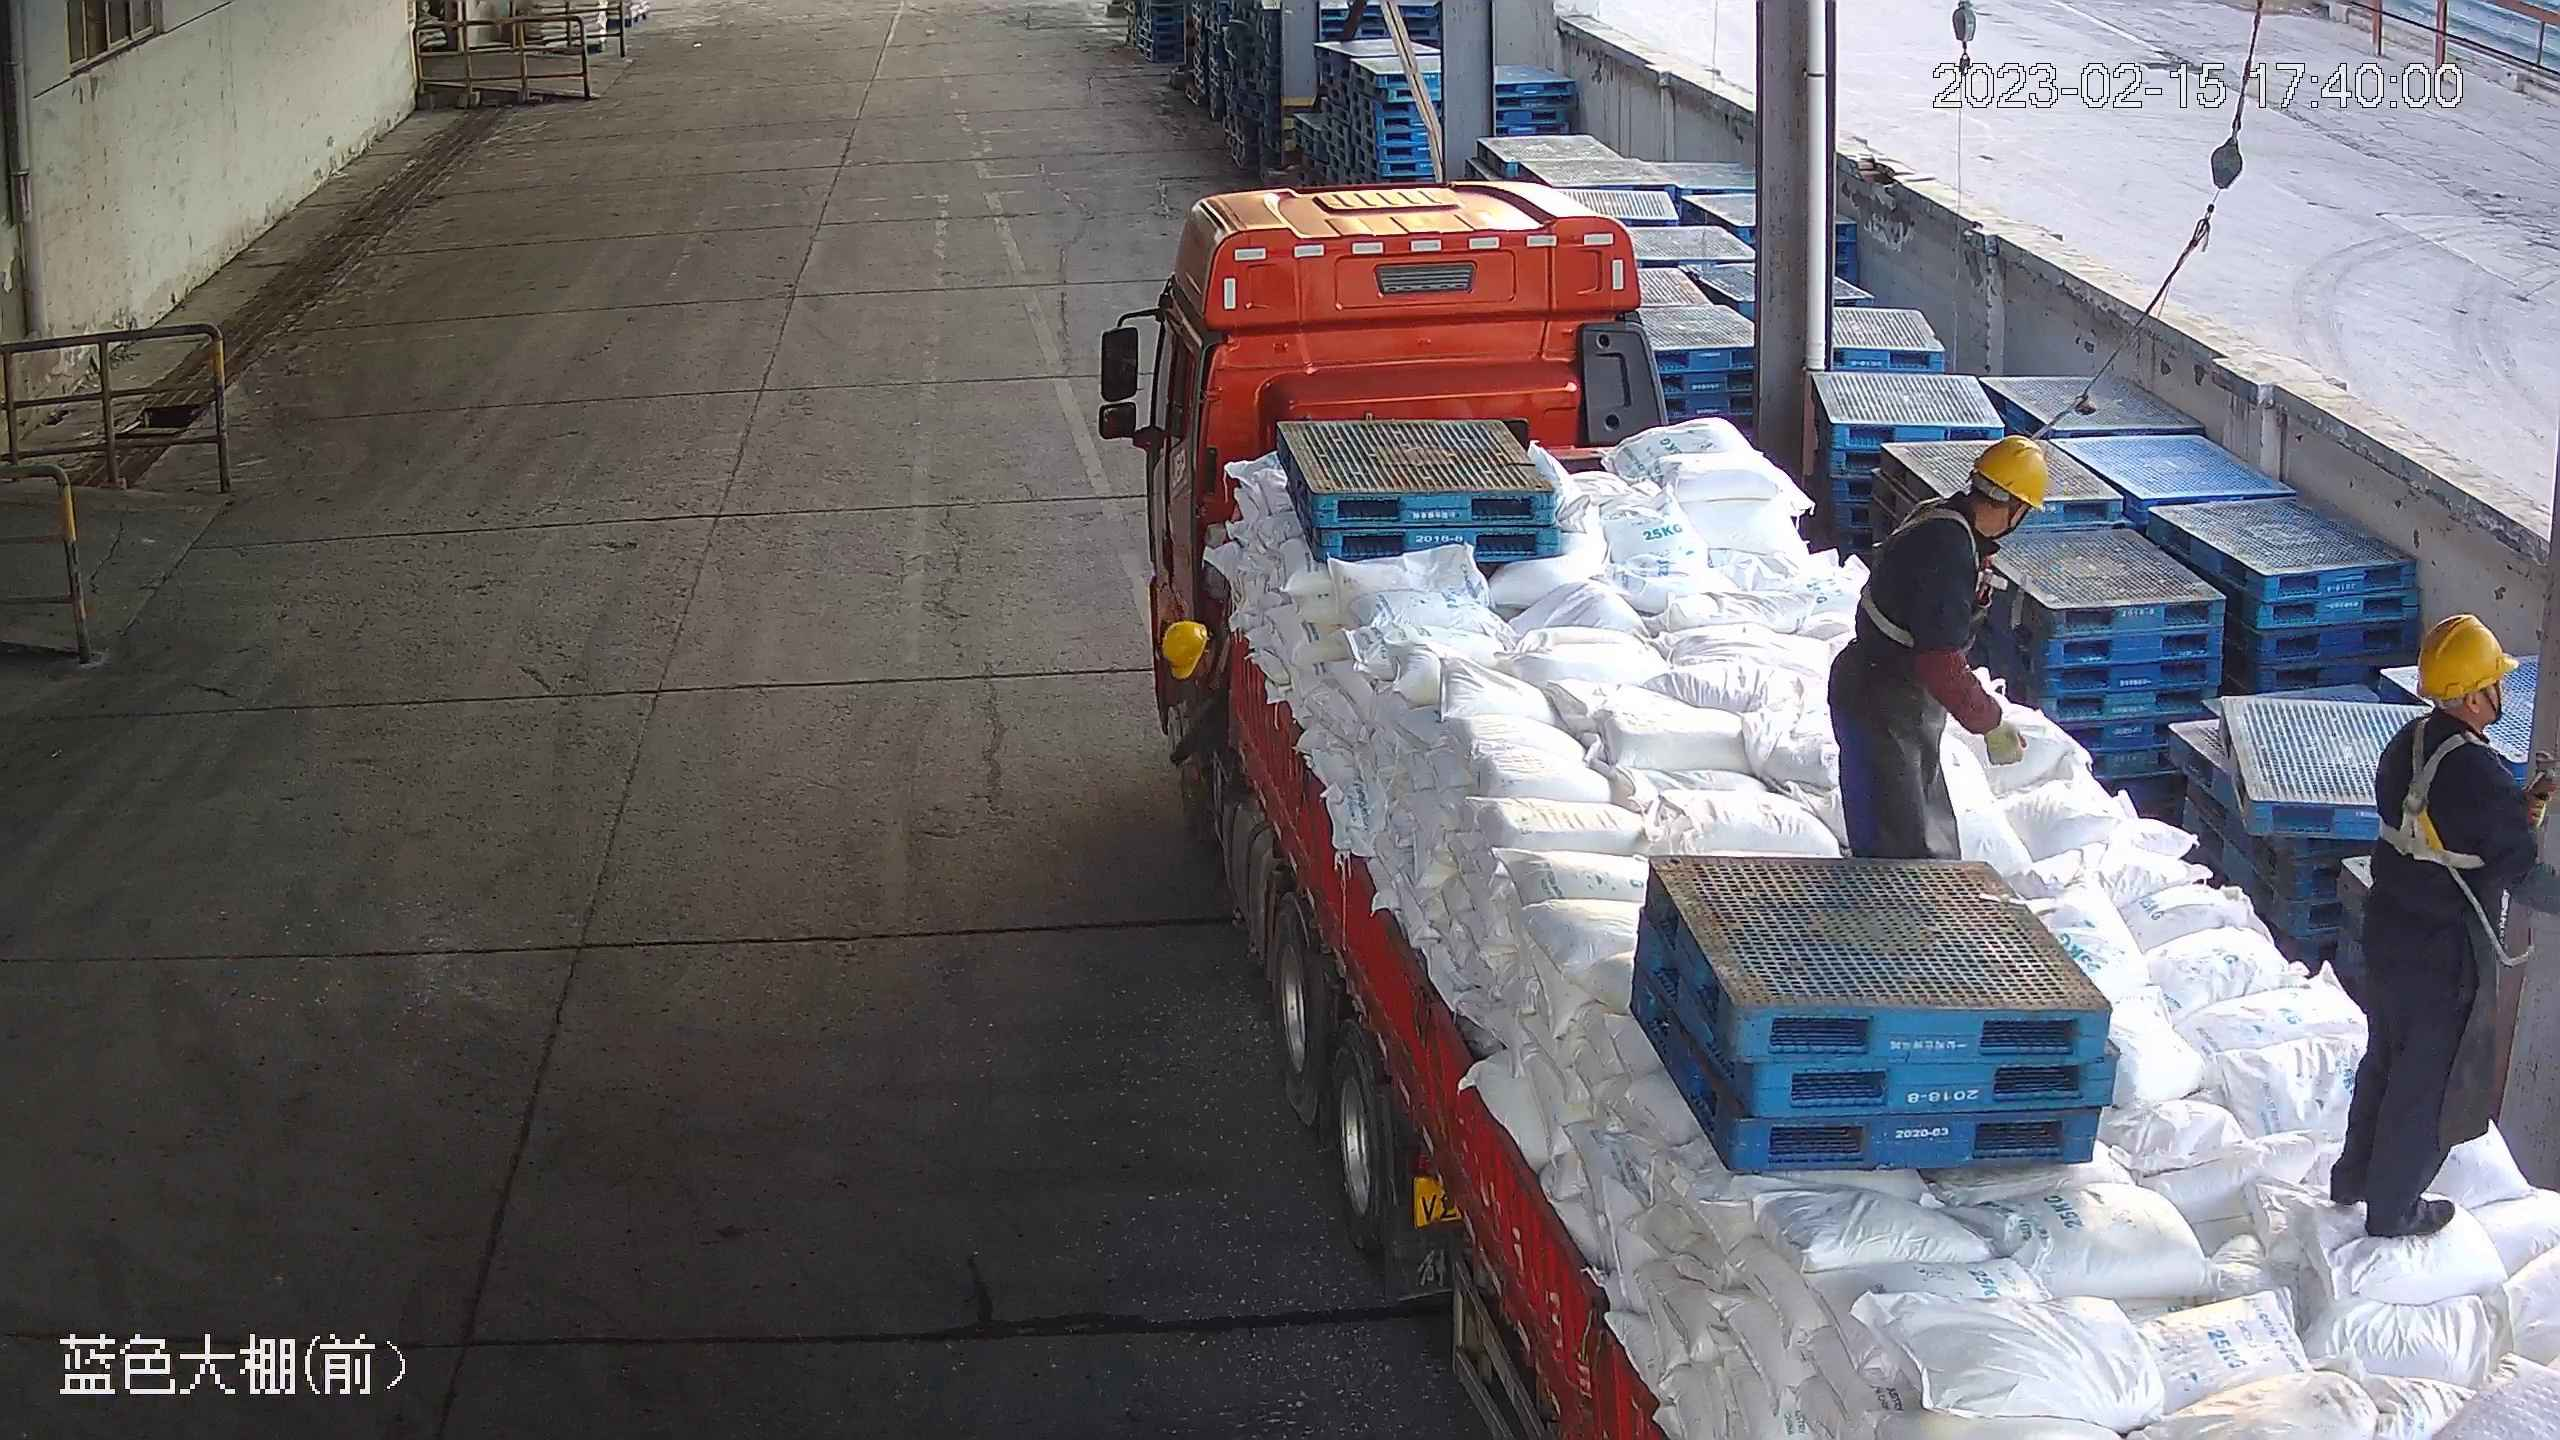belt: (1857, 495, 2007, 652), (2377, 716, 2493, 871)
head: (2372, 613, 2534, 823), (1897, 435, 2051, 577)
helmet: (2415, 613, 2519, 700), (1972, 435, 2049, 514), (1158, 619, 1209, 680)
people: (2324, 613, 2560, 1241), (1825, 435, 2049, 865)
truck: (1141, 178, 2560, 1440)
